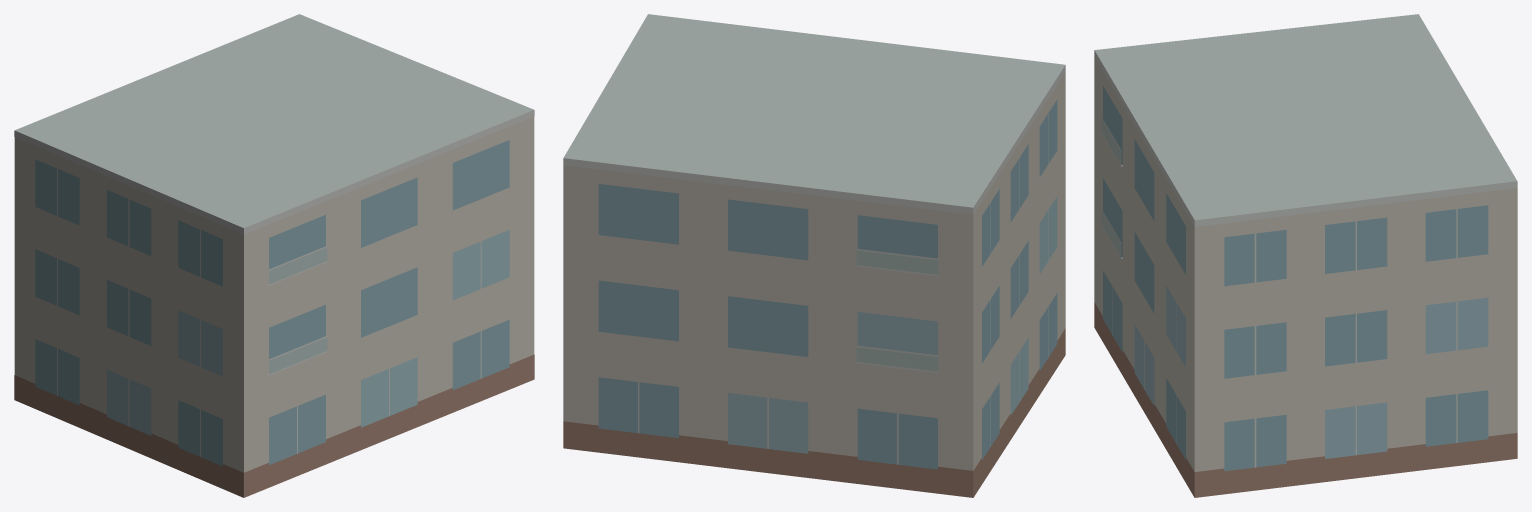
File: survey-upis-32705758.glb
3 renders of one model, left to right at view 1: azimuth 30°, elevation 25°; view 2: azimuth 150°, elevation 25°; view 3: azimuth 270°, elevation 25°, orthographic. The views are drawn at different scales.
Visible parts, largest first — view 1: survey-upis-32705758.tmp; view 2: survey-upis-32705758.tmp; view 3: survey-upis-32705758.tmp.
Part boxes in pixels (left/top/right/bottom): survey-upis-32705758.tmp: left=14, top=14, right=534, bottom=497; survey-upis-32705758.tmp: left=563, top=14, right=1065, bottom=497; survey-upis-32705758.tmp: left=1094, top=14, right=1517, bottom=497.
Size of the model in its own units: 16.12 by 10.1 by 13.97.
